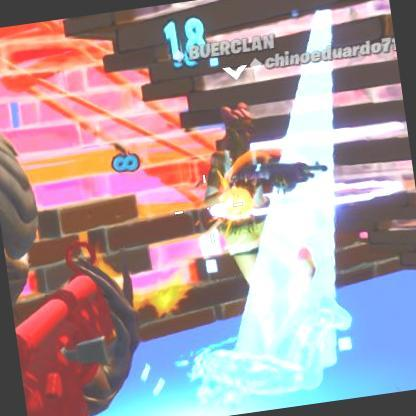person: (212, 110, 325, 354)
